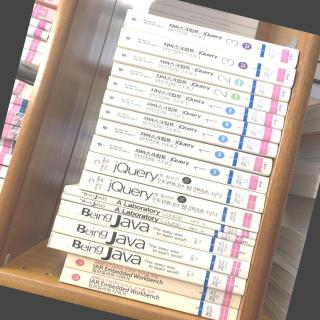book-spine: (47, 231, 247, 295), (52, 215, 250, 279), (57, 199, 253, 262), (78, 170, 261, 232), (84, 150, 265, 212), (117, 26, 296, 87), (90, 134, 270, 193), (123, 8, 299, 67), (61, 193, 255, 246), (63, 186, 257, 239), (64, 251, 241, 309), (94, 118, 273, 175), (59, 266, 239, 320), (102, 89, 282, 143), (106, 75, 286, 129), (99, 103, 278, 157), (111, 61, 288, 115), (114, 47, 291, 101)
